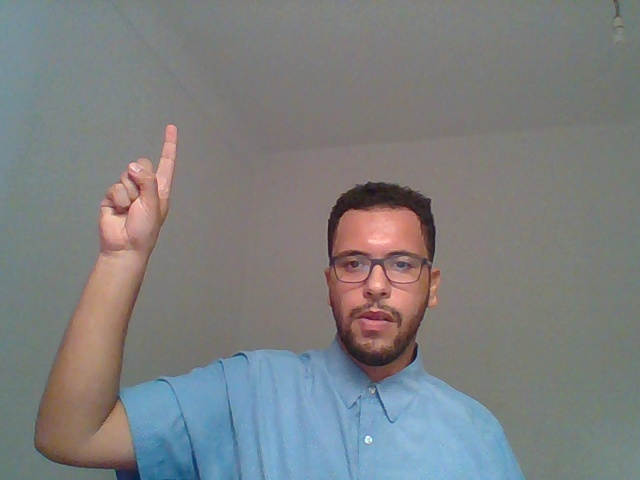handup: (62, 100, 203, 380)
